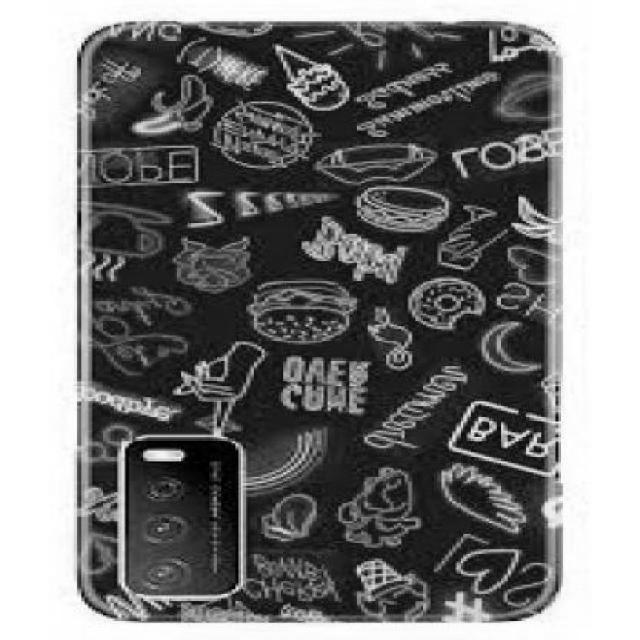fake: (80, 22, 562, 622)
